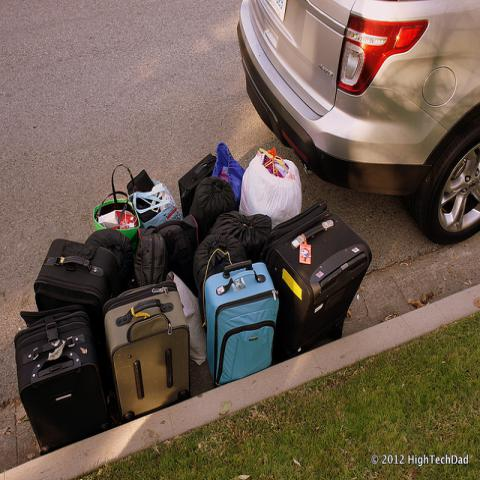car: (235, 1, 479, 248)
